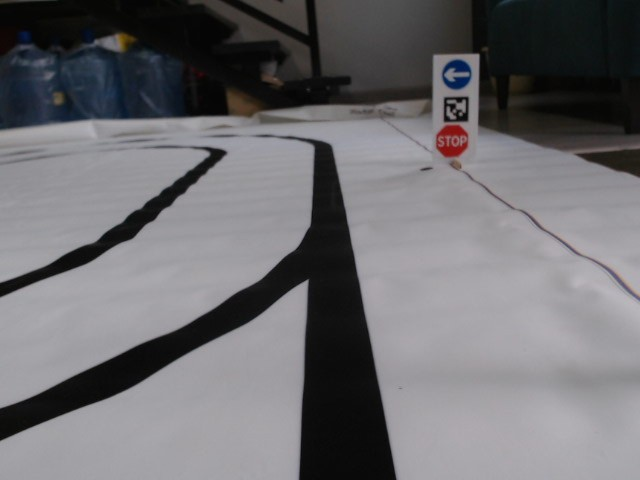Stop: (435, 123, 474, 158)
